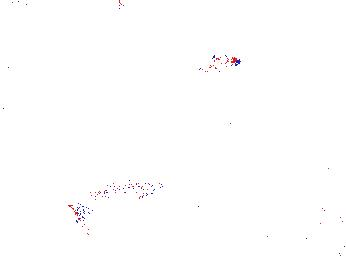glassfish: (68, 177, 168, 213), (225, 119, 299, 156)
red belly glassfish: (191, 47, 242, 71), (122, 20, 170, 37), (179, 63, 223, 77)
